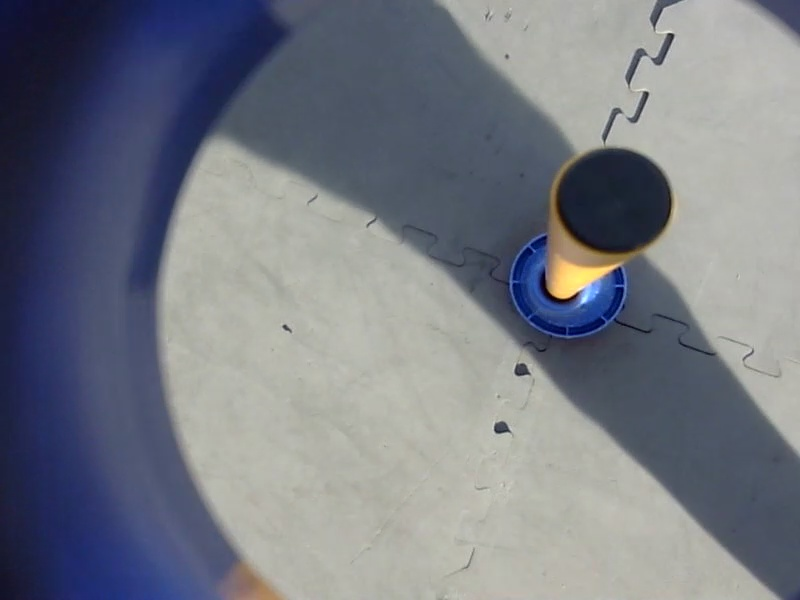tip: (534, 134, 686, 268)
